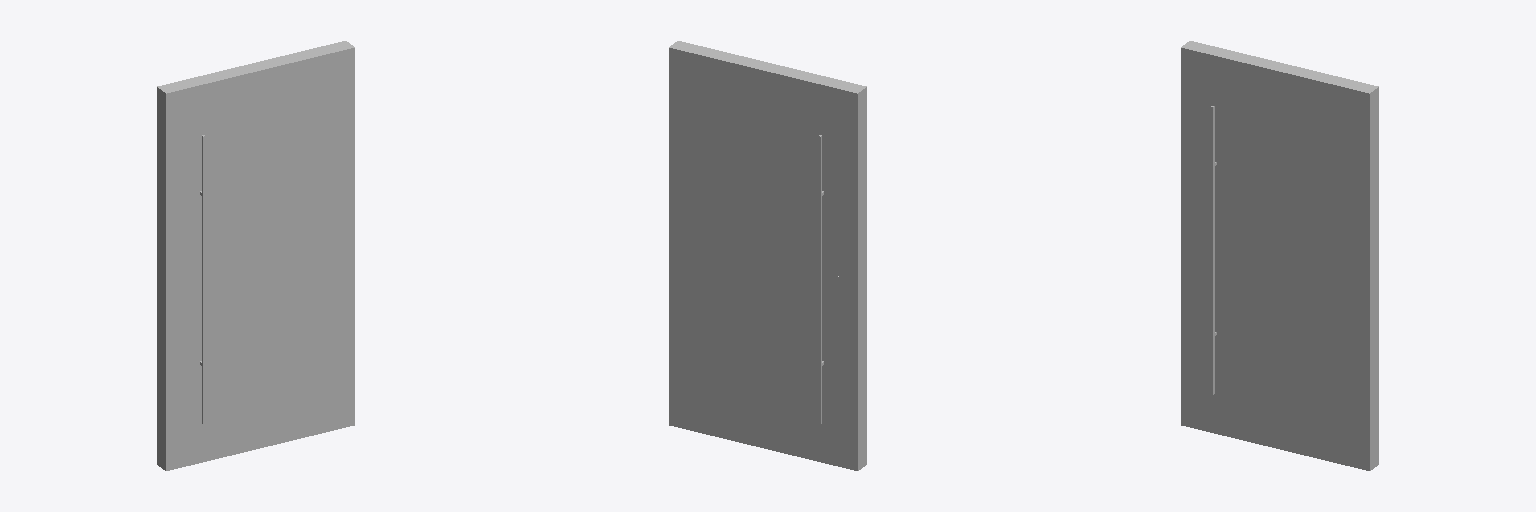
Rendered from usa_ap11_obj.obj.
3 views of the same model, side by side, from view 1: azimuth 30°, elevation 25°; view 2: azimuth 150°, elevation 25°; view 3: azimuth 330°, elevation 25° (orthographic).
Visible parts, largest first — view 1: Rama, Maner; view 2: Rama, Maner; view 3: Rama, Maner.
Part boxes in pixels (bbox=[...]): Rama: bbox=[157, 41, 354, 470]; Maner: bbox=[200, 135, 205, 423]; Rama: bbox=[669, 41, 866, 470]; Maner: bbox=[818, 135, 823, 423]; Rama: bbox=[1181, 41, 1378, 470]; Maner: bbox=[1211, 106, 1216, 394].
Size of the model in its own units: 43.31 by 82.68 by 6.57.